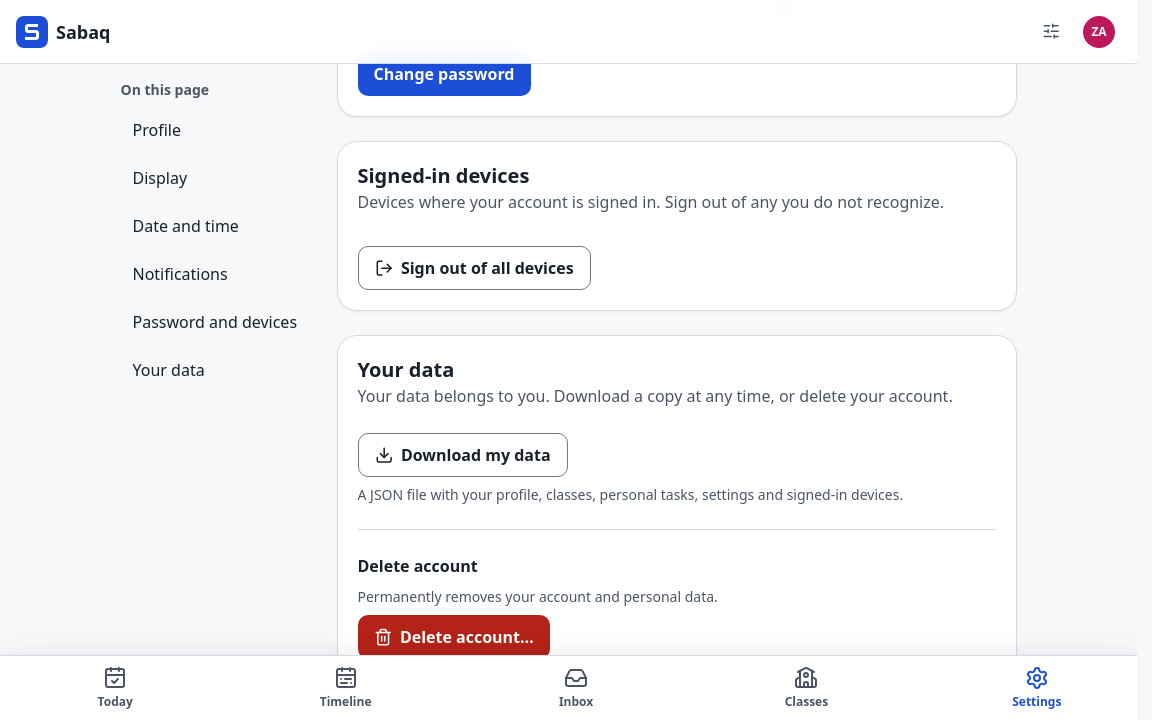
deleting the account › asks for the password, and says when it is wrong
The image size is (1152, 720).
(page scrolled)
Click the button "Delete account…" at point(454, 637), box [358,615,550,659]
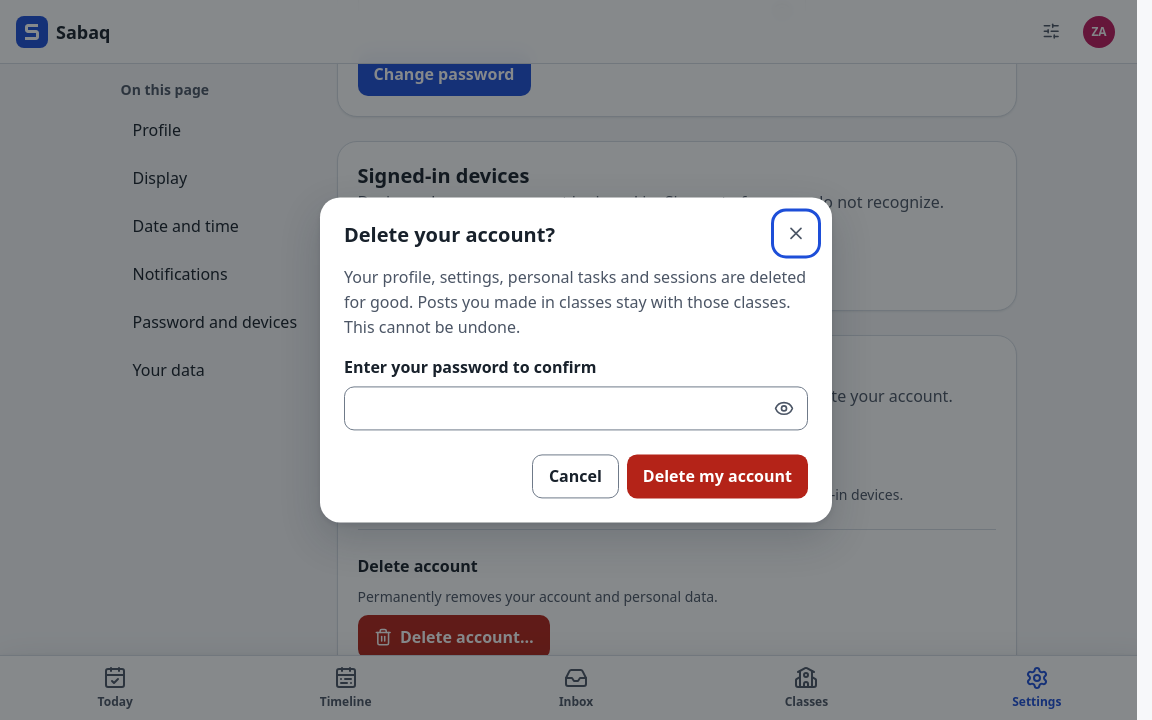
Click the button "Delete my account" at point(717, 477), box [627,455,808,499]
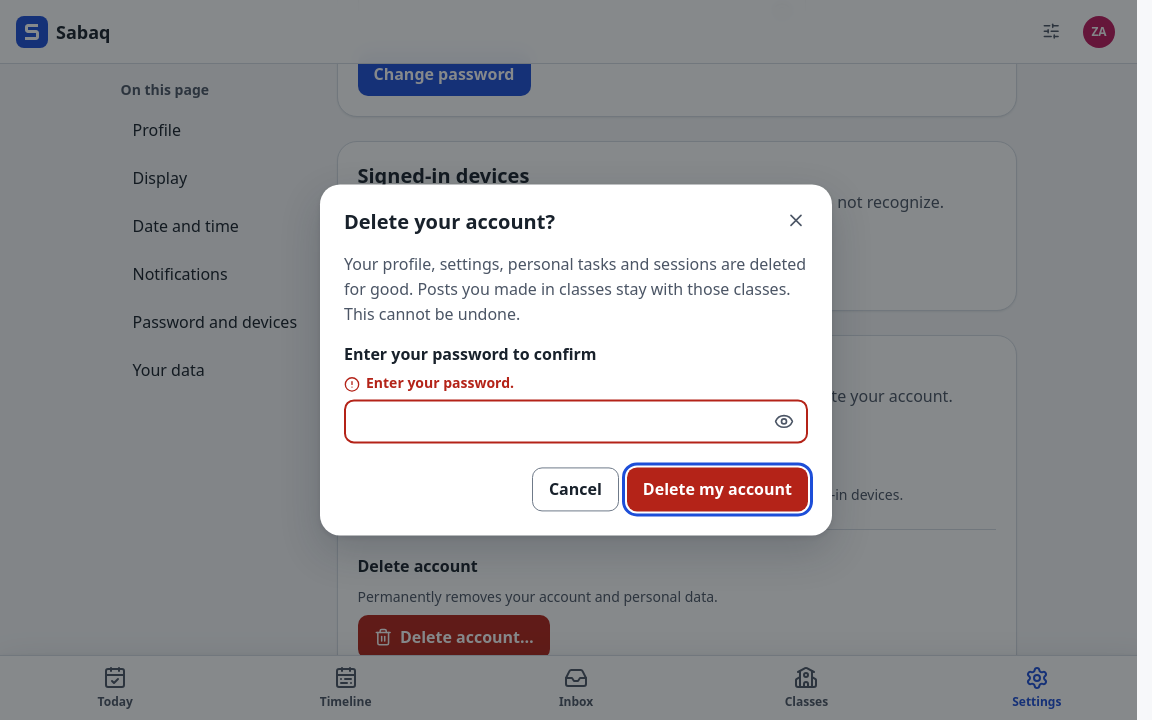
Now the text "Enter your password." is shown, box [366,374,514,394]
Type "nope" into the password field labelled "Enter your password to confirm" at point(576, 422), box [344,400,808,444]
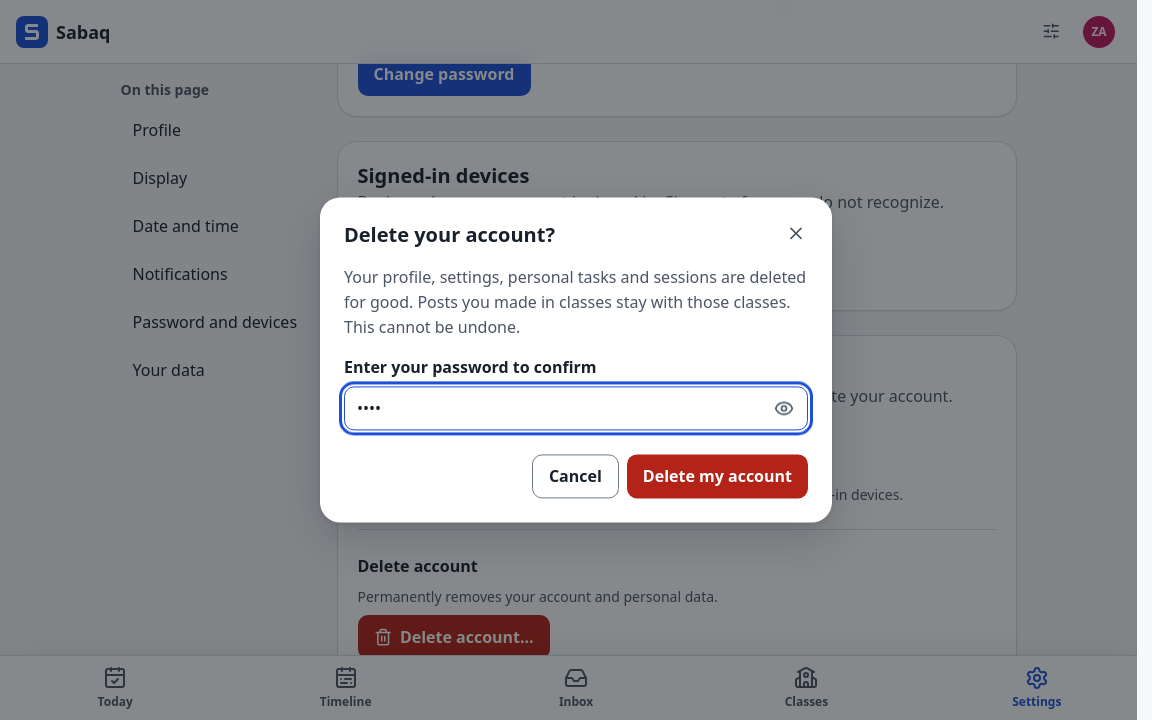
Click the button "Delete my account" at point(717, 477), box [627,455,808,499]
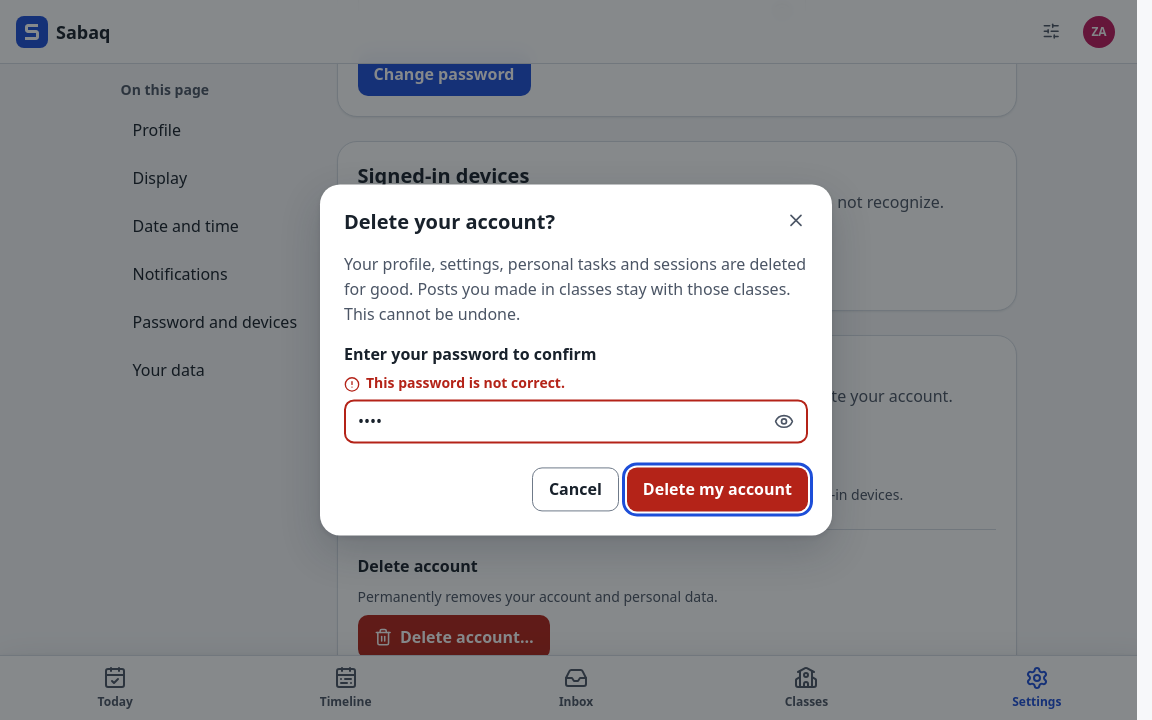
Now the text "This password is not correct." is shown, box [366,374,565,394]
